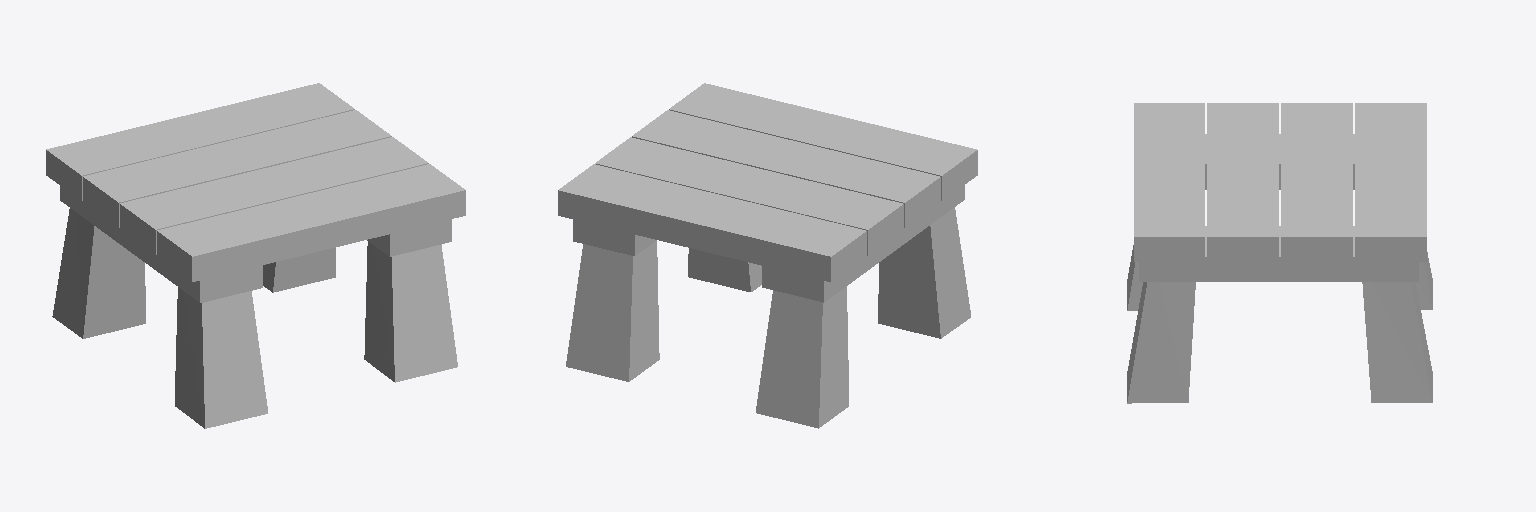
The model's file is Chair.obj.
3 views of the same model, side by side, from view 1: azimuth 30°, elevation 25°; view 2: azimuth 150°, elevation 25°; view 3: azimuth 270°, elevation 25° (orthographic).
Visible parts, largest first — view 1: group2 pCube14, group2 pCube16, group2 pCube15, group2 pCube17, pCube20 group2, group2 pCube22, group2 pCube21, group2 pCube19, group2 pCube23, group2 pCube18; view 2: group2 pCube17, group2 pCube15, group2 pCube14, group2 pCube16, group2 pCube21, group2 pCube23, pCube20 group2, group2 pCube19, group2 pCube22, group2 pCube18; view 3: group2 pCube15, group2 pCube16, group2 pCube17, group2 pCube14, group2 pCube23, group2 pCube22, group2 pCube18, group2 pCube21, pCube20 group2.
Boxes of the visible parts, <box> form: group2 pCube14: <box>157,164,465,281</box>; group2 pCube16: <box>83,110,391,227</box>; group2 pCube15: <box>120,137,428,254</box>; group2 pCube17: <box>46,83,354,200</box>; pCube20 group2: <box>175,287,267,428</box>; group2 pCube22: <box>364,241,457,382</box>; group2 pCube21: <box>52,208,145,338</box>; group2 pCube19: <box>60,186,262,302</box>; group2 pCube23: <box>263,248,335,292</box>; group2 pCube18: <box>367,219,451,256</box>; group2 pCube17: <box>558,164,866,281</box>; group2 pCube15: <box>632,110,940,227</box>; group2 pCube14: <box>669,83,977,200</box>; group2 pCube16: <box>595,137,903,255</box>; group2 pCube21: <box>756,286,848,428</box>; group2 pCube23: <box>566,241,659,381</box>; pCube20 group2: <box>878,207,970,338</box>; group2 pCube19: <box>762,185,964,302</box>; group2 pCube22: <box>688,248,761,291</box>; group2 pCube18: <box>573,220,656,255</box>; group2 pCube15: <box>1207,103,1278,261</box>; group2 pCube16: <box>1281,103,1352,261</box>; group2 pCube17: <box>1355,103,1426,261</box>; group2 pCube14: <box>1134,103,1204,261</box>; group2 pCube23: <box>1362,282,1432,402</box>; group2 pCube22: <box>1127,282,1195,403</box>; group2 pCube18: <box>1139,226,1418,281</box>; group2 pCube21: <box>1416,252,1432,309</box>; pCube20 group2: <box>1127,245,1142,310</box>.
Size of the model in its own units: 0.5544 by 0.3337 by 0.5363.